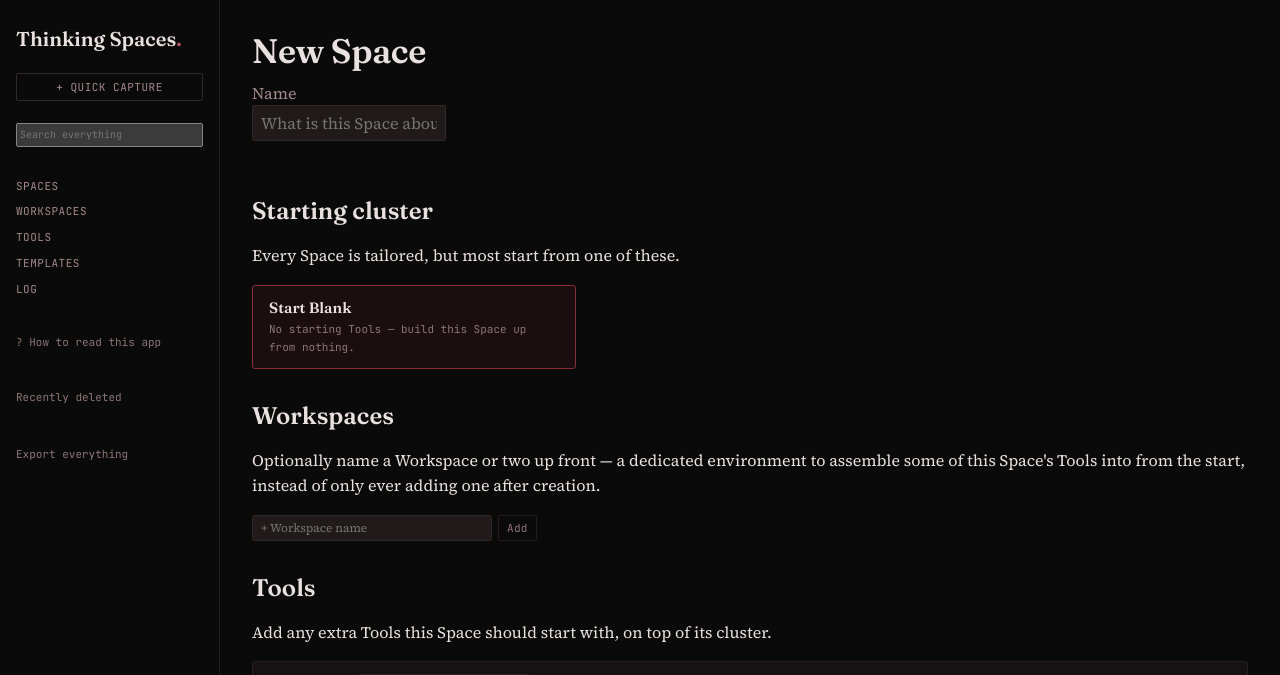
it: CreateSpace: Workspaces step › adds a draft Workspace name as a chip, and removes it
The image size is (1280, 675).
Expected: the heading "Start Blank" is shown, [269,298,351,317]
Type "Focus Area" into the field with placeholder "+ Workspace name" at x=372, y=528, box [252,515,492,541]
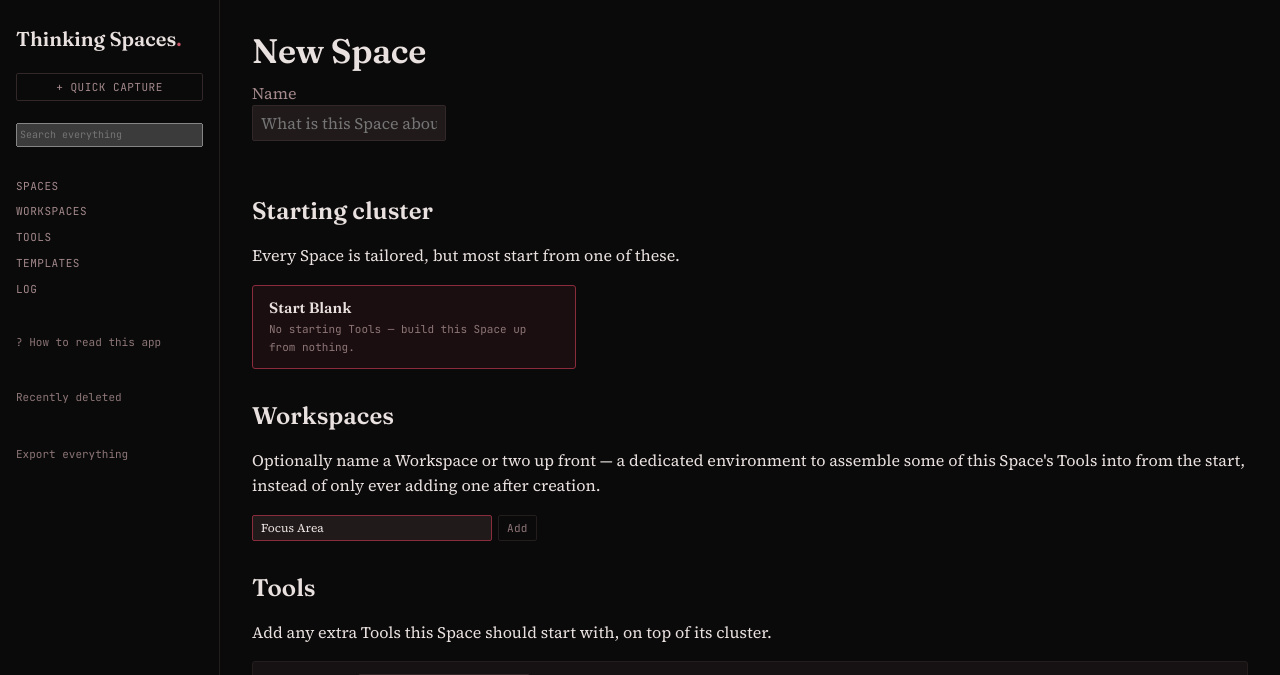
Click the button "Add" at x=517, y=528, box [498,515,537,541]
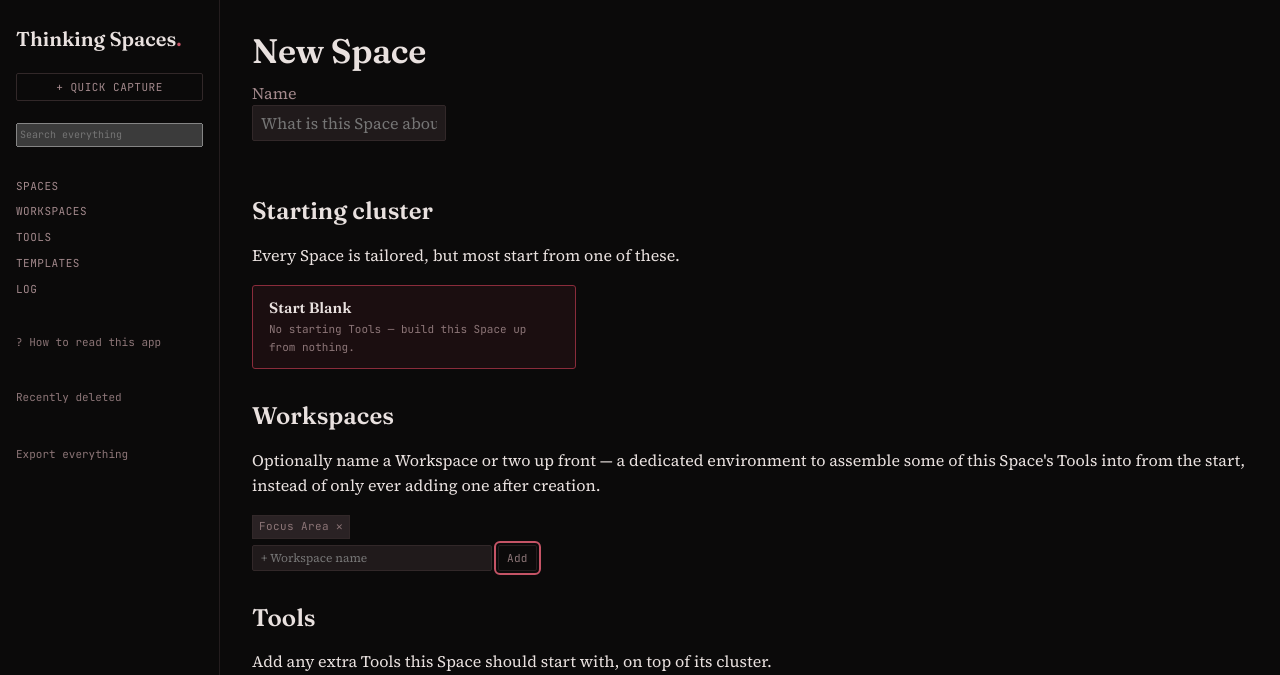
Expected: the text "Focus Area" is shown, [259,519,329,533]
Expected: the element with class "workspace-name-row" is shown, [252,515,350,539]
Click the button titled "Remove" at x=339, y=527, box [336,518,343,536]
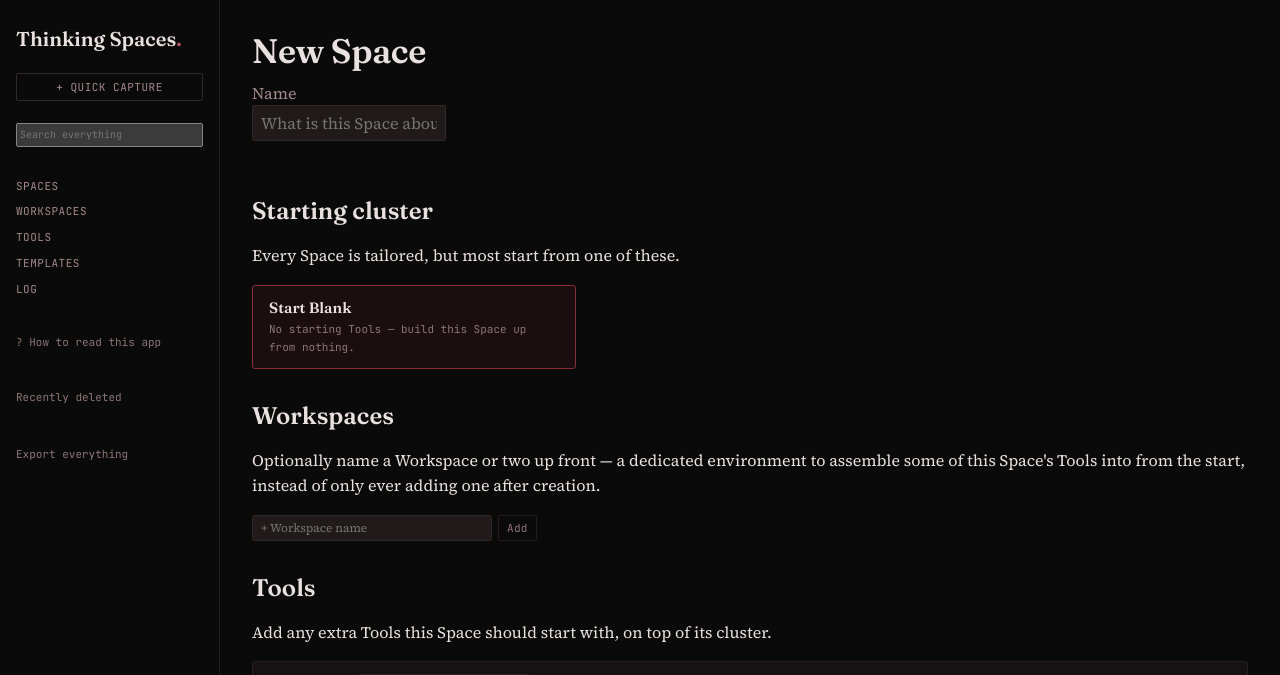
Expected: the element with class "workspace-name-row" is gone
